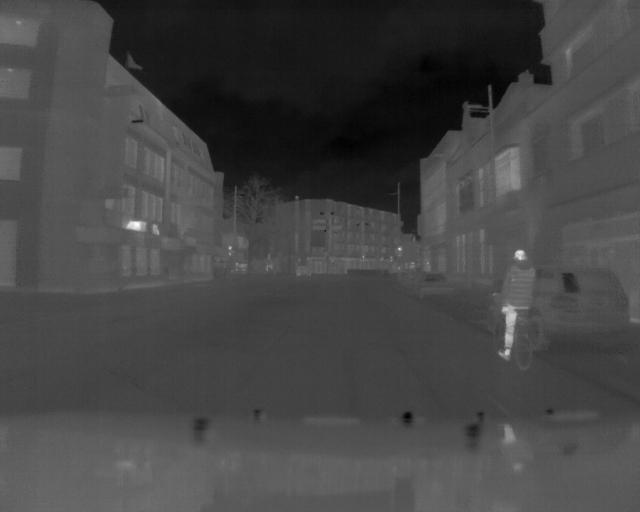car: (489, 261, 629, 344)
person: (497, 230, 542, 362)
